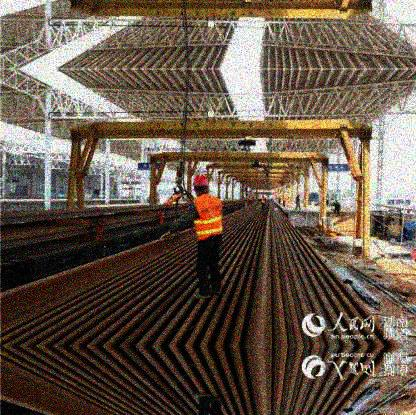helmet: (192, 175, 209, 195)
